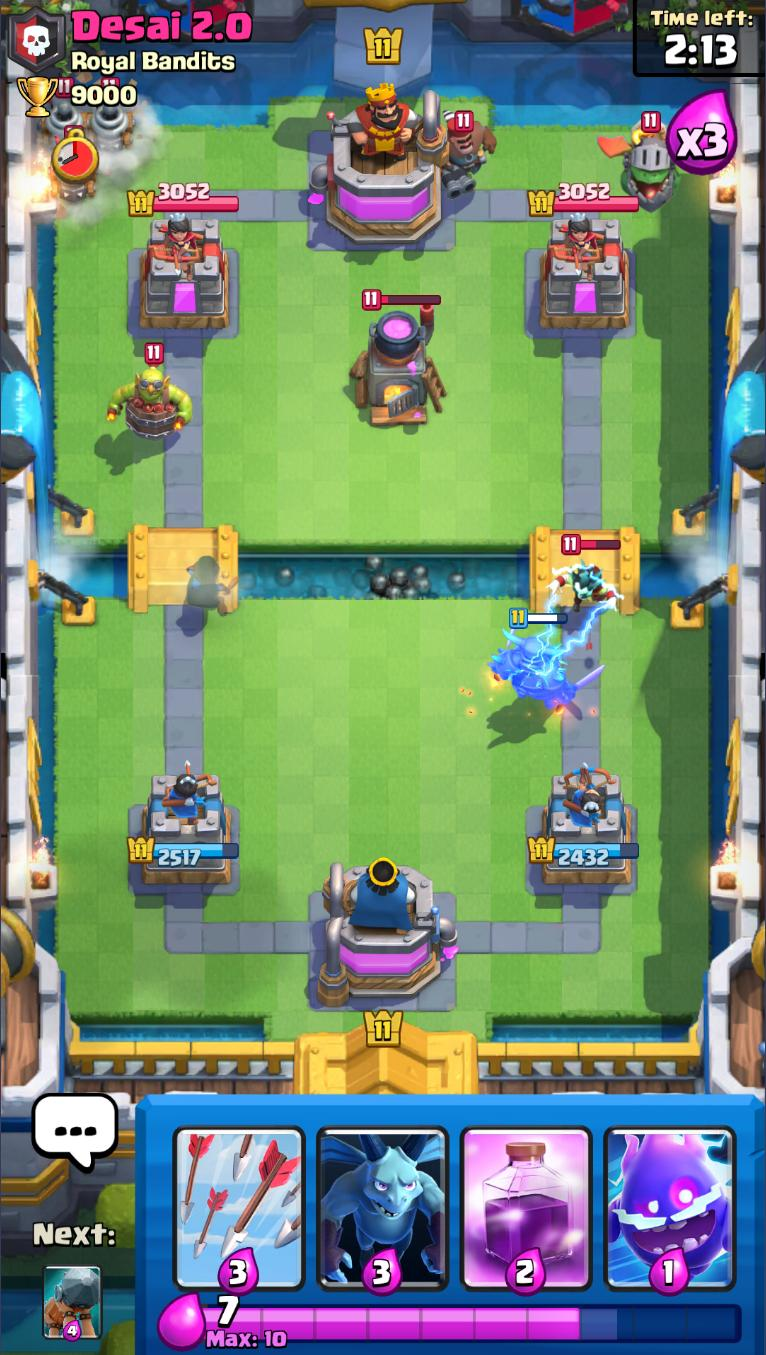ArrowDeck: (166, 1096, 312, 1294)
BattleRamNext: (41, 1264, 104, 1342)
Demolisher: (105, 341, 194, 441)
ElectroSpiritDeck: (598, 1095, 743, 1296)
ElectroWizard: (547, 534, 626, 614)
Elixir: (202, 1294, 743, 1349)
EnemyTower: (138, 215, 232, 331), (539, 215, 632, 331)
Furnace: (351, 289, 448, 426)
Hunter: (434, 108, 497, 197)
InfernoDragon: (597, 112, 685, 213)
KingTower: (310, 79, 451, 248)
MinionsDeck: (312, 1096, 453, 1298)
MyBandit: (184, 554, 240, 614)
MyKingTower: (316, 856, 459, 1009)
MyPekka: (489, 608, 605, 709)
MyPrincessTower: (125, 771, 242, 889), (528, 770, 641, 889)
MyPrincessTowerHP: (125, 835, 241, 868), (527, 835, 641, 868)
PrincessTower: (149, 215, 203, 277), (550, 216, 603, 274)
RageDeck: (454, 1097, 598, 1296)
TowerPrincessHP: (127, 182, 240, 217), (528, 182, 641, 216)
